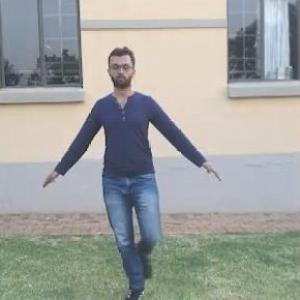land: (50, 27, 230, 292)
